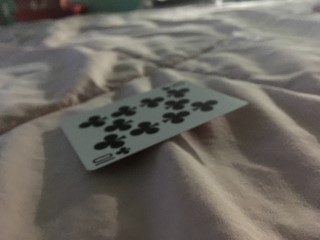TenOfClubs: (59, 79, 248, 170)
